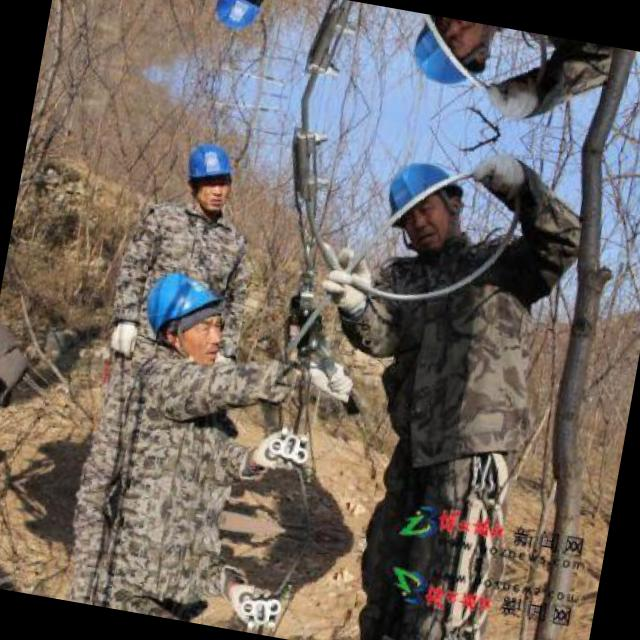helmet: (364, 142, 485, 266), (392, 10, 510, 106), (136, 258, 241, 364), (174, 133, 239, 216), (205, 0, 268, 39)
